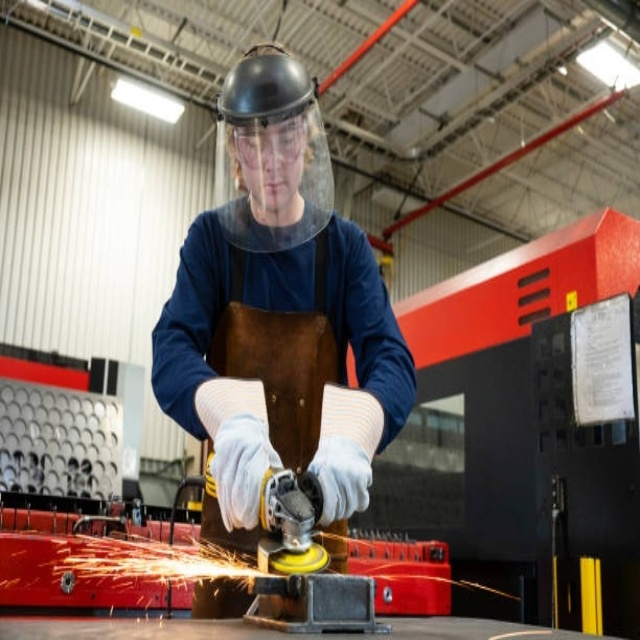Gafas: (233, 130, 304, 166)
Guantes: (192, 376, 279, 527), (303, 378, 382, 519)
Sin_mascara: (256, 176, 295, 212)
